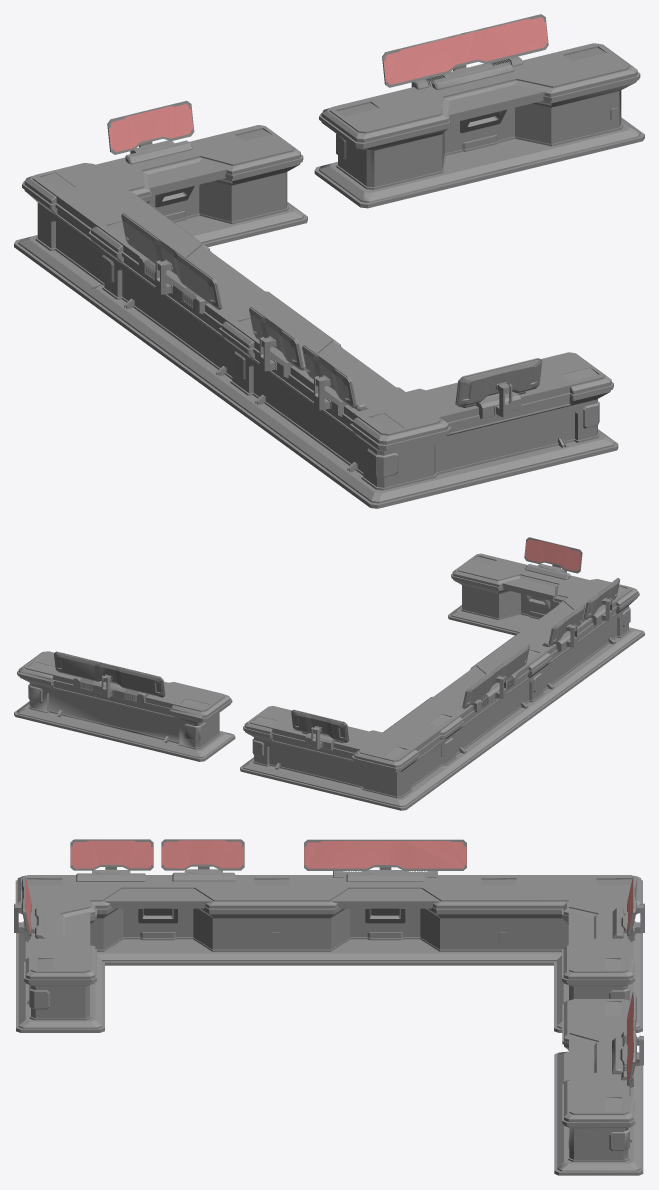
Rendered from S_Envi_Laboratory_desk_004b.gltf.
The picture shows the model from 3 angles, top to bottom: view 1: azimuth 30°, elevation 25°; view 2: azimuth 150°, elevation 25°; view 3: azimuth 270°, elevation 25°; orthographic projection. The views are drawn at different scales.
Visible parts, largest first — view 1: S_Envi_Laboratory_desk_004b; view 2: S_Envi_Laboratory_desk_004b; view 3: S_Envi_Laboratory_desk_004b.
Boxes of the visible parts, bbox=[...] form: S_Envi_Laboratory_desk_004b: bbox=[14, 14, 644, 508]; S_Envi_Laboratory_desk_004b: bbox=[14, 537, 644, 810]; S_Envi_Laboratory_desk_004b: bbox=[14, 839, 644, 1175].
Size of the model in its own units: 8.65 by 1.51 by 9.28.
